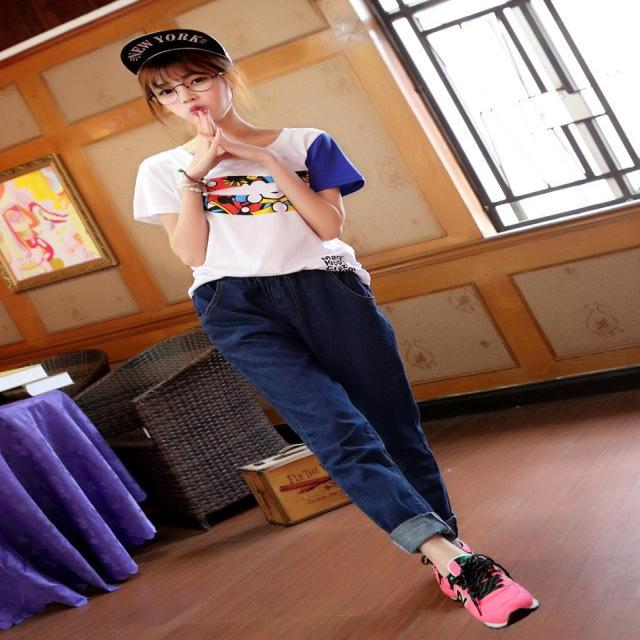short sleeve top: (136, 129, 368, 298)
trousers: (195, 268, 459, 555)
